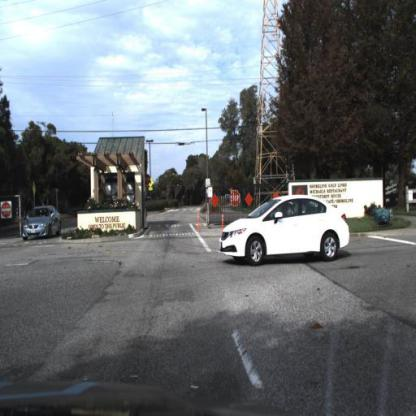car: (216, 191, 351, 269), (20, 205, 64, 241)
